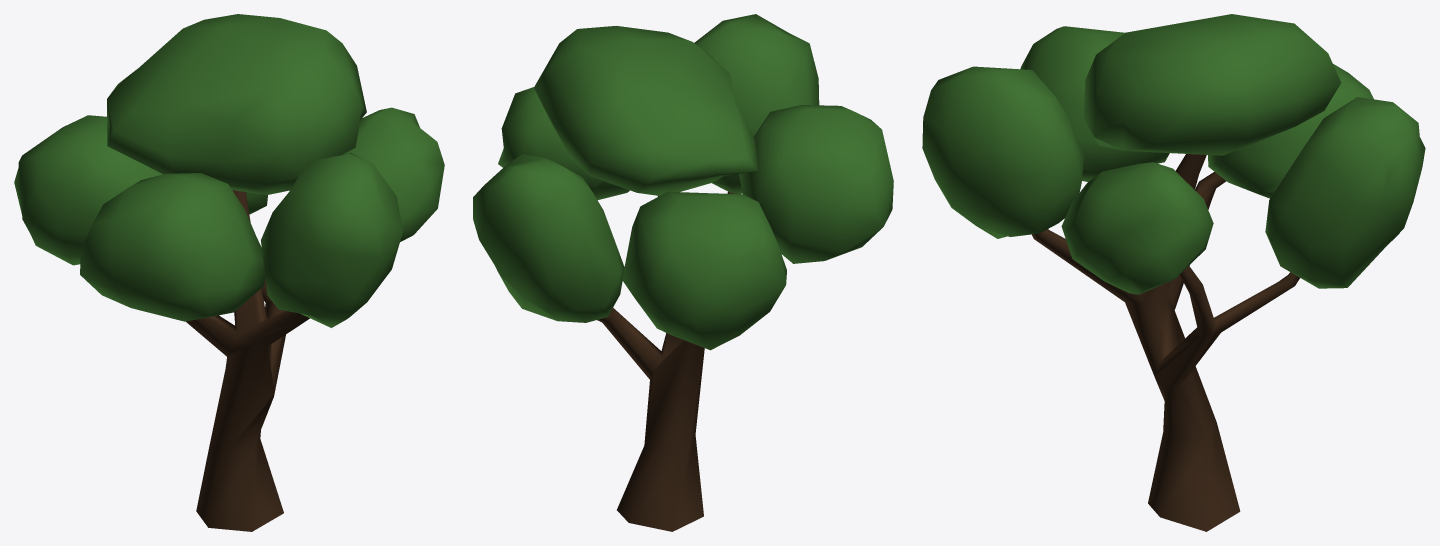
File: Tree07.fbx
3 renders of one model, left to right at view 1: azimuth 30°, elevation 25°; view 2: azimuth 150°, elevation 25°; view 3: azimuth 270°, elevation 25°, orthographic. The views are drawn at different scales.
Parts seen in each view (by area): view 1: Tree07; view 2: Tree07; view 3: Tree07.
Boxes of the visible parts, x1=… form: Tree07: x1=14, y1=14, x2=444, y2=531; Tree07: x1=473, y1=14, x2=893, y2=531; Tree07: x1=922, y1=14, x2=1425, y2=531.
Size of the model in its own units: 645 by 794 by 727.
